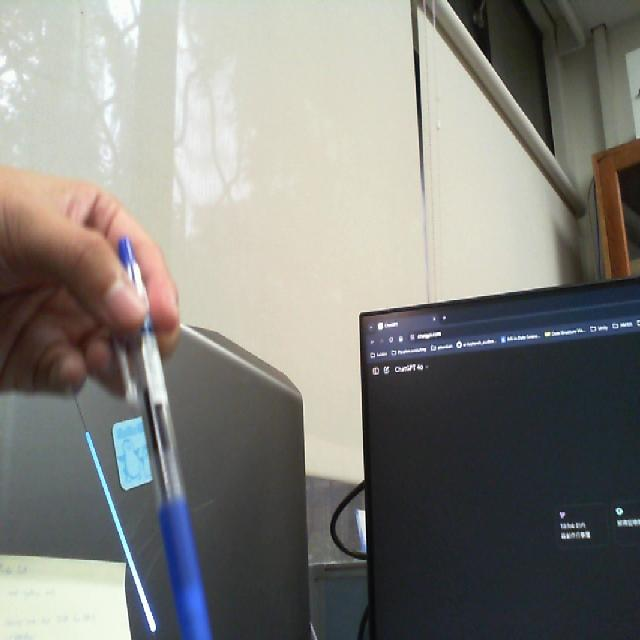Pen: (91, 230, 224, 640)
